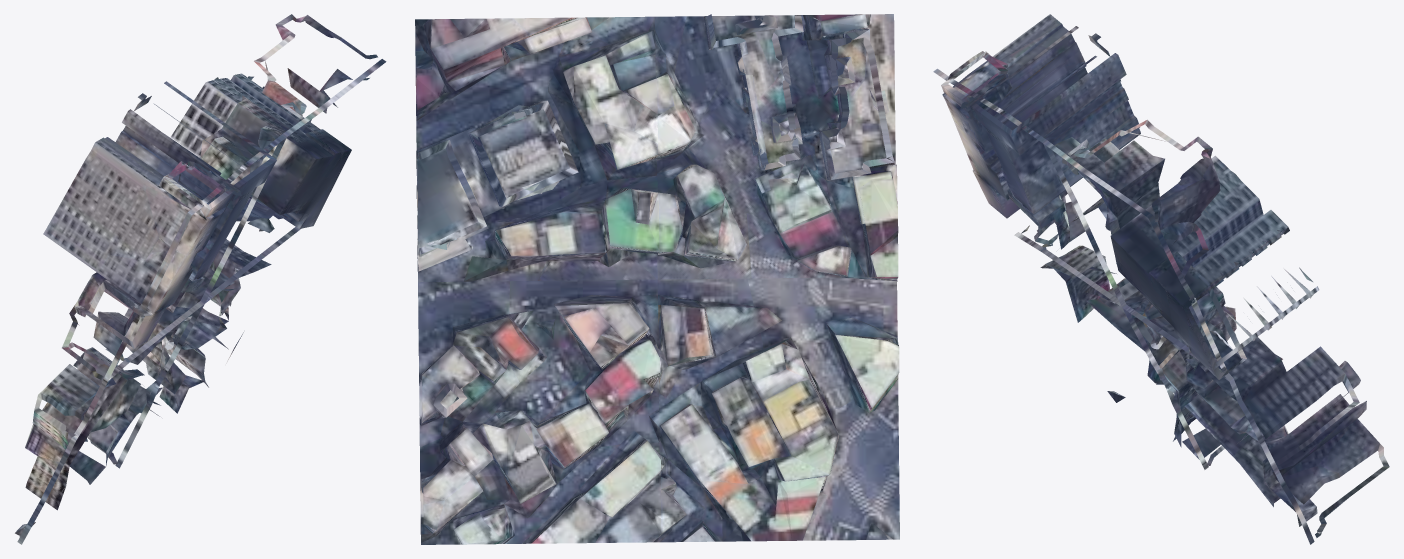
The picture shows the model from 3 angles, left to right: view 1: azimuth 30°, elevation 25°; view 2: azimuth 150°, elevation 25°; view 3: azimuth 270°, elevation 25°; orthographic projection. The views are drawn at different scales.
Size of the model in its own units: 153 by 157 by 155.
Materials: 2 (2 with a texture image).
